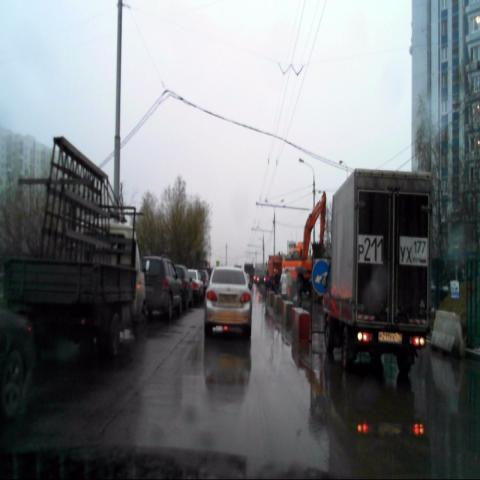4_2_2: (312, 260, 331, 295)
